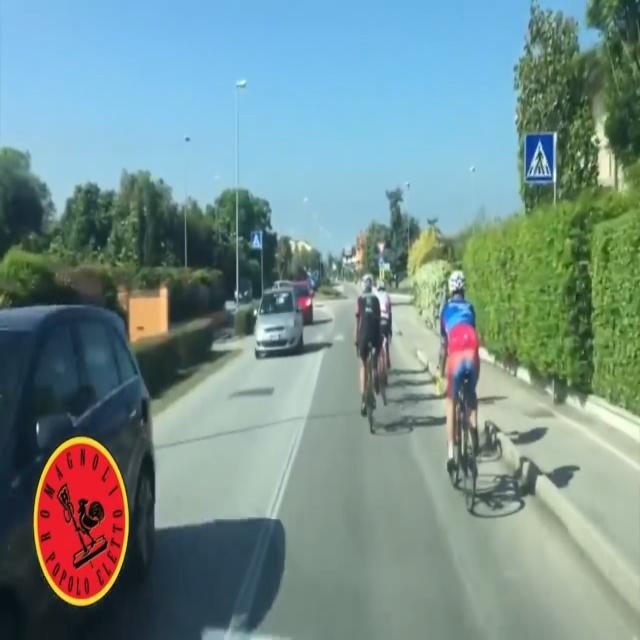Pedestrian crosswalk: (524, 131, 556, 185), (250, 231, 262, 247)
